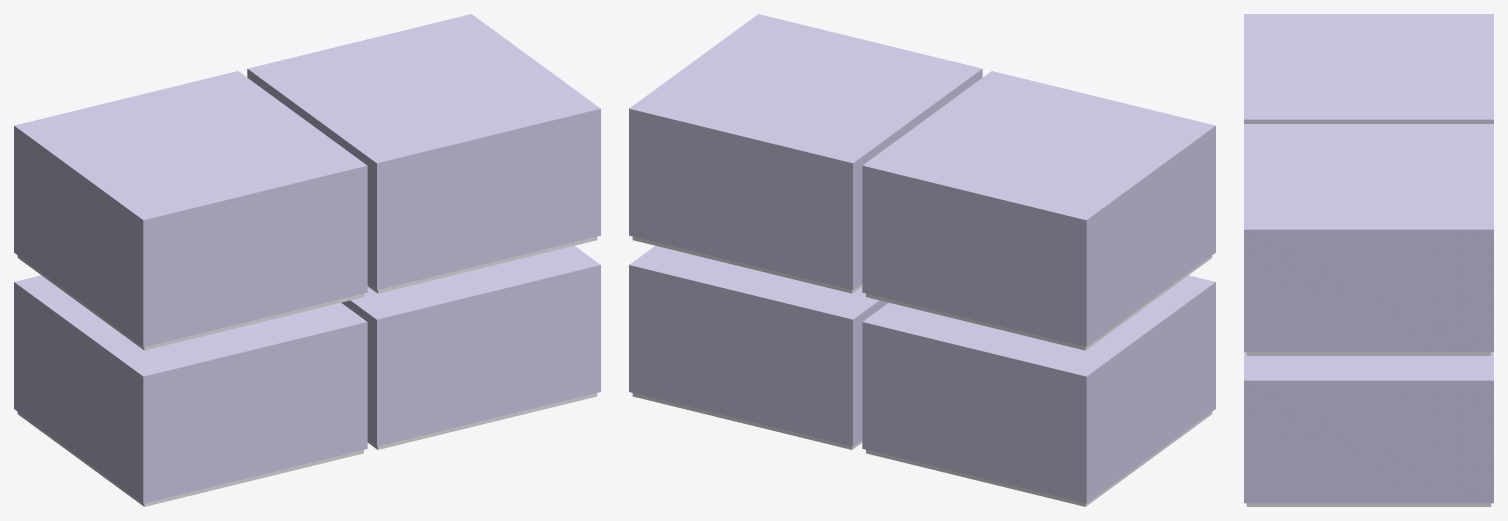
The model's file is sample_modern_dollhouse.glb.
The picture shows the model from 3 angles, left to right: view 1: azimuth 30°, elevation 25°; view 2: azimuth 150°, elevation 25°; view 3: azimuth 270°, elevation 25°; orthographic projection. The views are drawn at different scales.
Parts seen in each view (by area): view 1: WALL_KITCHEN, WALL_BATHROOM, WALL_LIVING, WALL_BEDROOM, FLOOR_LIVING, FLOOR_KITCHEN, FLOOR_BEDROOM, FLOOR_BATHROOM; view 2: WALL_KITCHEN, WALL_BATHROOM, WALL_LIVING, WALL_BEDROOM, FLOOR_LIVING, FLOOR_KITCHEN, FLOOR_BEDROOM, FLOOR_BATHROOM; view 3: WALL_BATHROOM, WALL_BEDROOM, WALL_KITCHEN, FLOOR_BEDROOM, FLOOR_BATHROOM.
Boxes of the visible parts, x1,y1,x2,y2 form: WALL_KITCHEN: [14, 71, 367, 347]; WALL_BATHROOM: [247, 14, 600, 290]; WALL_LIVING: [14, 275, 367, 503]; WALL_BEDROOM: [341, 245, 600, 446]; FLOOR_LIVING: [17, 412, 363, 506]; FLOOR_KITCHEN: [17, 255, 363, 350]; FLOOR_BEDROOM: [367, 393, 597, 449]; FLOOR_BATHROOM: [367, 236, 597, 293]; WALL_KITCHEN: [862, 71, 1215, 347]; WALL_BATHROOM: [629, 14, 982, 290]; WALL_LIVING: [862, 275, 1215, 503]; WALL_BEDROOM: [629, 245, 888, 446]; FLOOR_LIVING: [866, 412, 1212, 506]; FLOOR_KITCHEN: [866, 255, 1212, 350]; FLOOR_BEDROOM: [632, 393, 862, 449]; FLOOR_BATHROOM: [632, 236, 862, 293]; WALL_BATHROOM: [1244, 124, 1493, 352]; WALL_BEDROOM: [1244, 352, 1493, 503]; WALL_KITCHEN: [1244, 14, 1493, 123]; FLOOR_BEDROOM: [1246, 503, 1491, 506]; FLOOR_BATHROOM: [1246, 352, 1491, 355].
Bounding box in the file's own units: 9.8 × 5.9 × 4.8.
